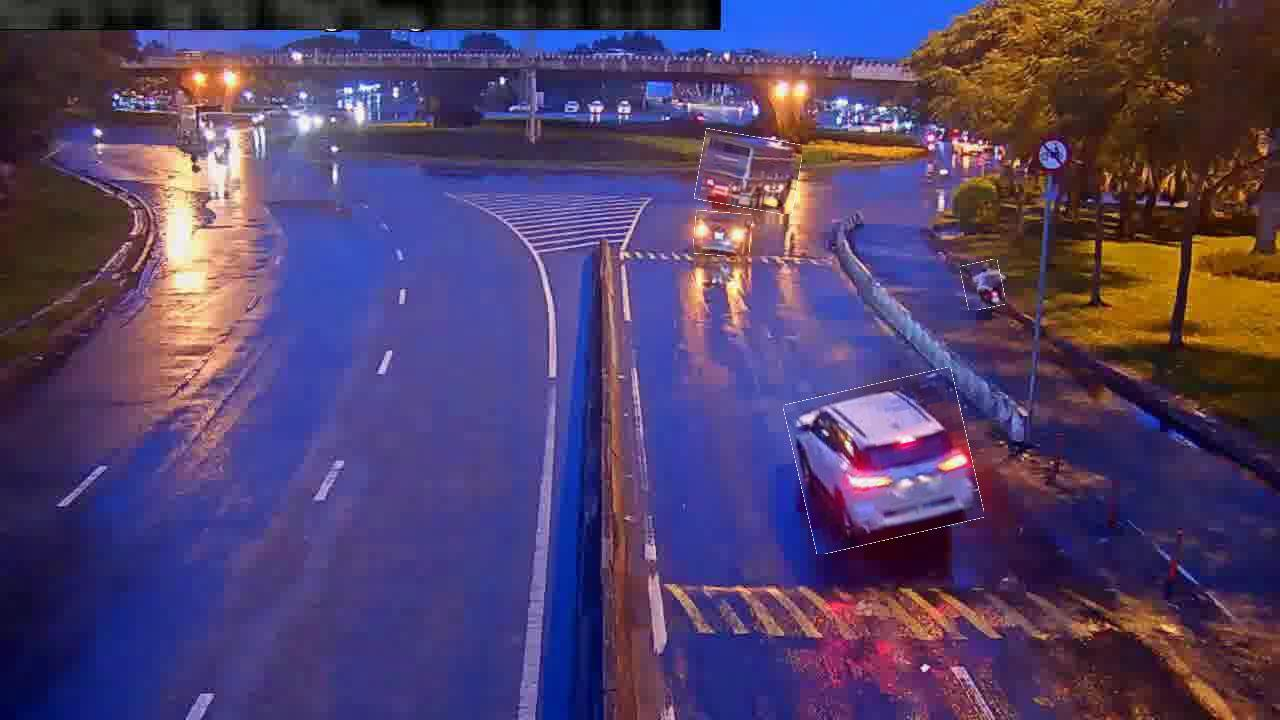car: (790, 376, 978, 546), (694, 211, 752, 256)
container: (697, 132, 801, 211)
motorbike: (962, 260, 1004, 310)
